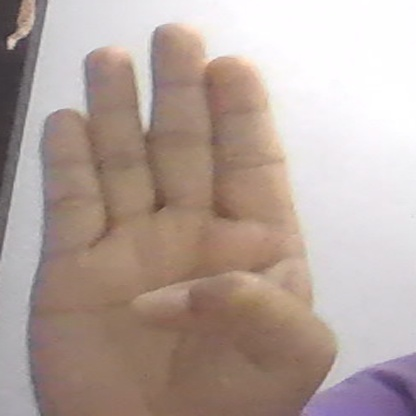B: (26, 22, 339, 407)
